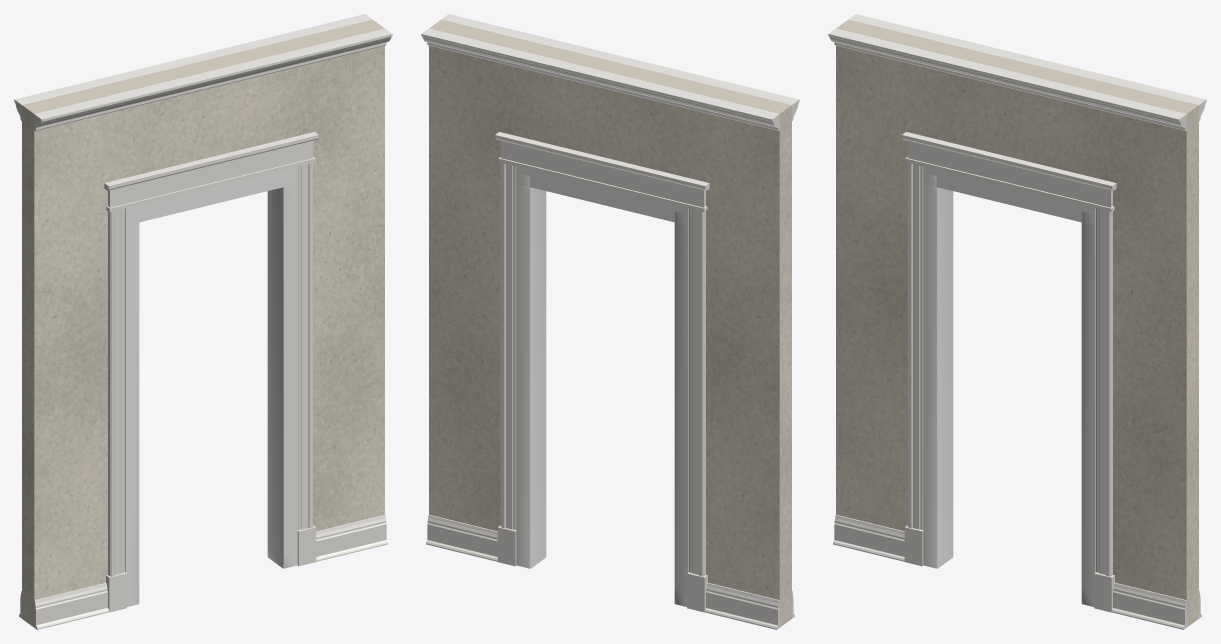
Rendered from interior_wall_doorway.glb.
The picture shows the model from 3 angles, left to right: view 1: azimuth 30°, elevation 25°; view 2: azimuth 150°, elevation 25°; view 3: azimuth 330°, elevation 25°; orthographic projection.
Parts seen in each view (by area): view 1: interior_wall_doorway_plaster, molduras, interior_wall_doorway_frame; view 2: interior_wall_doorway_plaster, molduras, interior_wall_doorway_frame; view 3: interior_wall_doorway_plaster, molduras, interior_wall_doorway_frame.
Part boxes in pixels (x1,y1,x2,y2): interior_wall_doorway_plaster: [22, 19, 384, 627]; molduras: [14, 14, 392, 629]; interior_wall_doorway_frame: [125, 166, 297, 606]; interior_wall_doorway_plaster: [429, 19, 791, 627]; molduras: [421, 14, 799, 629]; interior_wall_doorway_frame: [516, 166, 688, 606]; interior_wall_doorway_plaster: [836, 19, 1198, 627]; molduras: [828, 14, 1206, 629]; interior_wall_doorway_frame: [923, 166, 1095, 606].
Size of the model in its own units: 2 by 2.8 by 0.27.
Materials: 3 (1 with a texture image).
